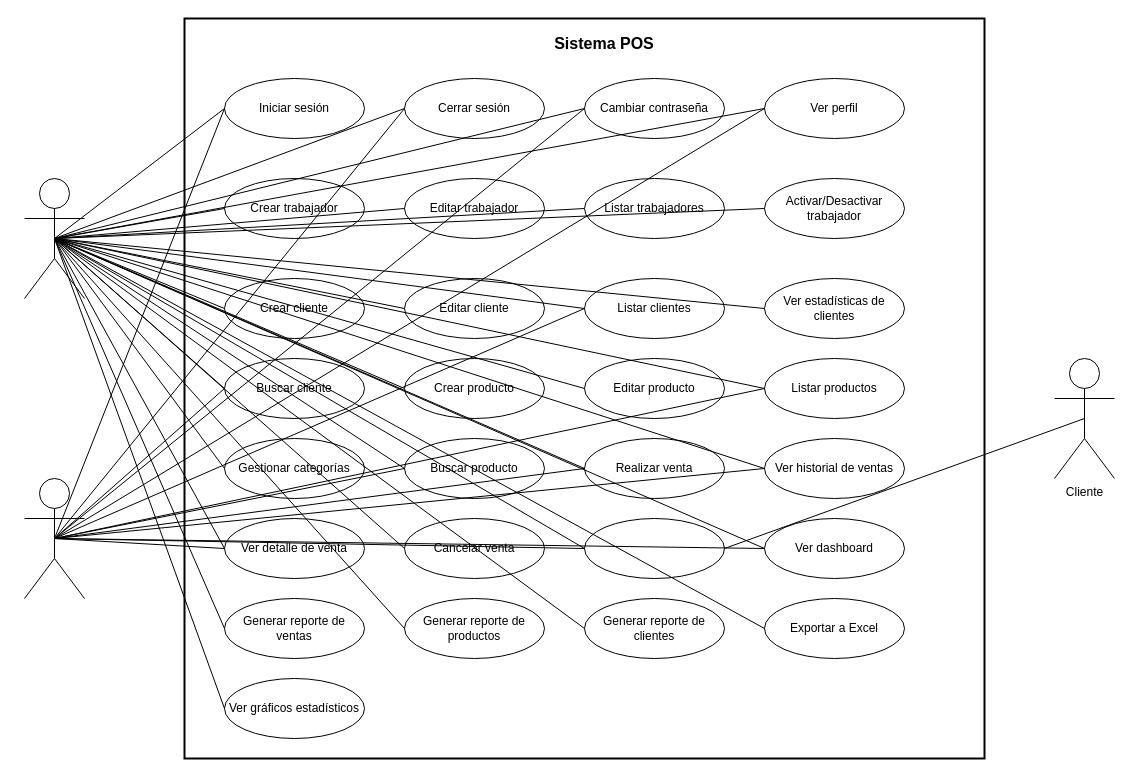
Some shapes in this 1132 by 776 pixel diagram are drawn without their labels. Each missing label, with the centre of its shape:
"Administrador" goes at (54,238).
"Generar factura" goes at (654,548).
"Trabajador" goes at (54,538).
